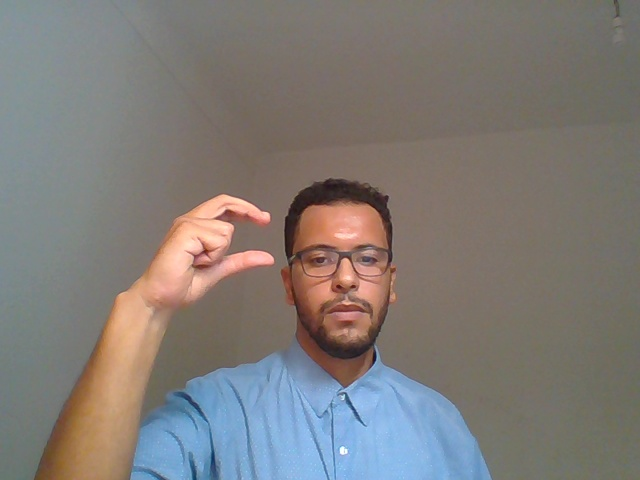no: (77, 133, 278, 441)
